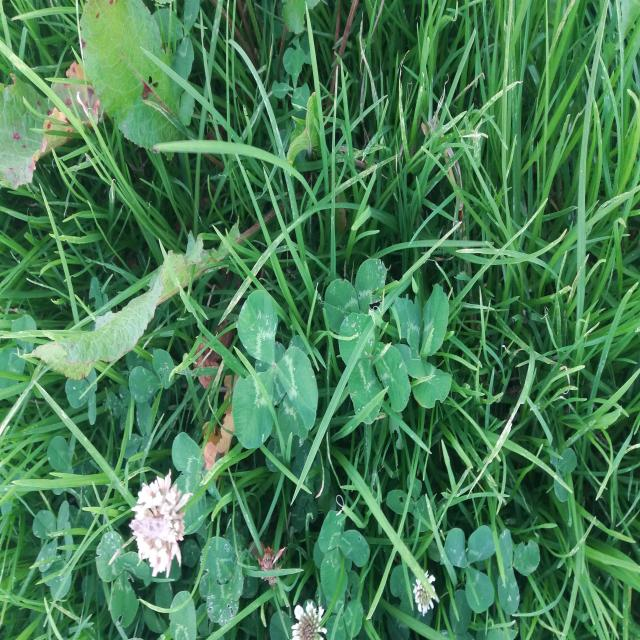Four Leaf Clover: (393, 283, 452, 409)
